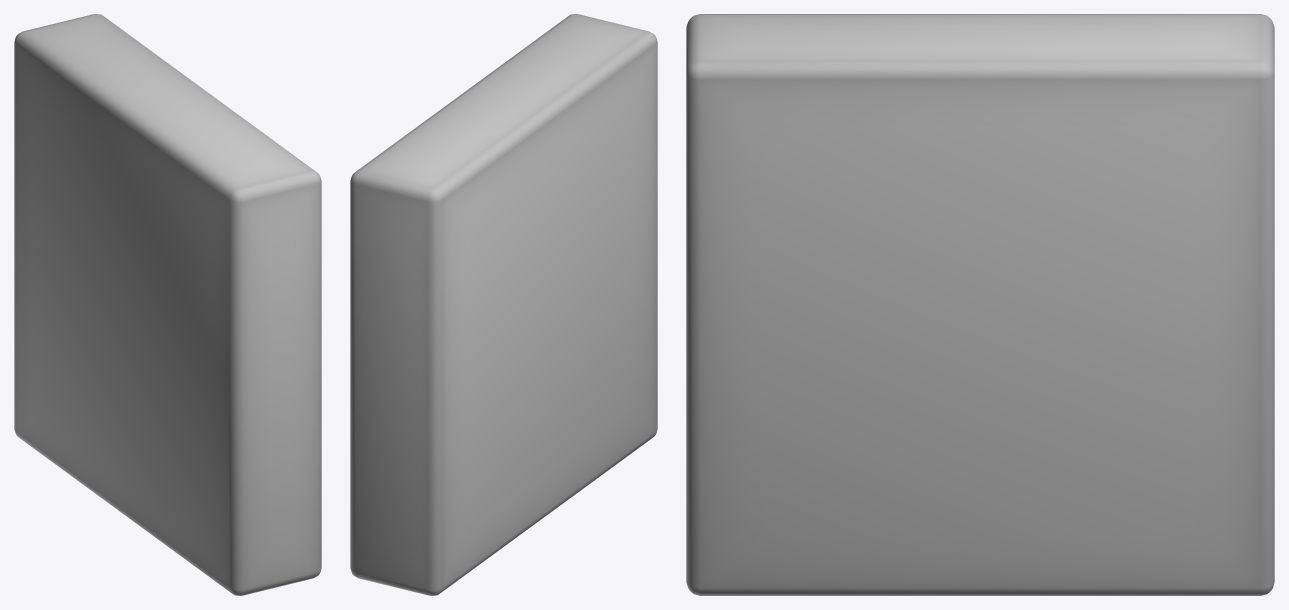
The model's file is chrome.glb.
3 renders of one model, left to right at view 1: azimuth 30°, elevation 25°; view 2: azimuth 150°, elevation 25°; view 3: azimuth 270°, elevation 25°, orthographic. The views are drawn at different scales.
Parts seen in each view (by area): view 1: Chrome; view 2: Chrome; view 3: Chrome.
Part boxes in pixels (<box>): Chrome: <box>14,14,321,595</box>; Chrome: <box>350,14,657,595</box>; Chrome: <box>686,14,1274,595</box>.
Bounding box in the file's own units: 0.9106 × 3.9 × 3.9.
Materials: 1 (1 with a texture image).
